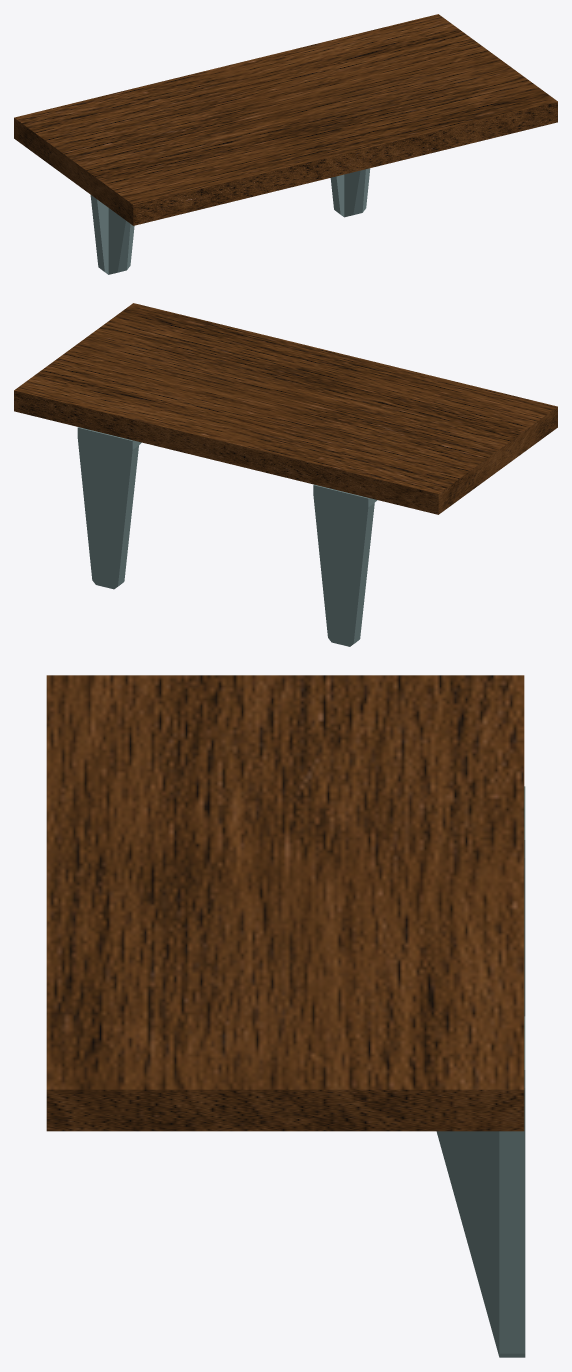
File: wall shelf.fbx
The picture shows the model from 3 angles, top to bottom: view 1: azimuth 30°, elevation 25°; view 2: azimuth 150°, elevation 25°; view 3: azimuth 270°, elevation 25°; orthographic projection. The views are drawn at different scales.
Visible parts, largest first — view 1: shelf1; view 2: shelf1; view 3: shelf1.
Boxes of the visible parts, x1,y1,x2,y2 form: shelf1: [14, 14, 557, 274]; shelf1: [14, 303, 557, 646]; shelf1: [46, 675, 525, 1357].
Size of the model in its own units: 385 by 151 by 188.
